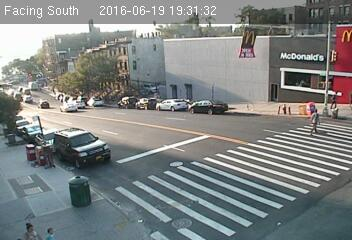neg: (87, 58, 128, 112), (18, 36, 58, 90), (195, 84, 233, 134), (114, 69, 148, 115), (53, 169, 82, 208), (56, 42, 81, 75), (272, 95, 292, 121), (18, 162, 37, 188)
pos: (300, 104, 327, 140), (322, 87, 341, 112), (21, 217, 38, 239), (45, 225, 55, 239)
